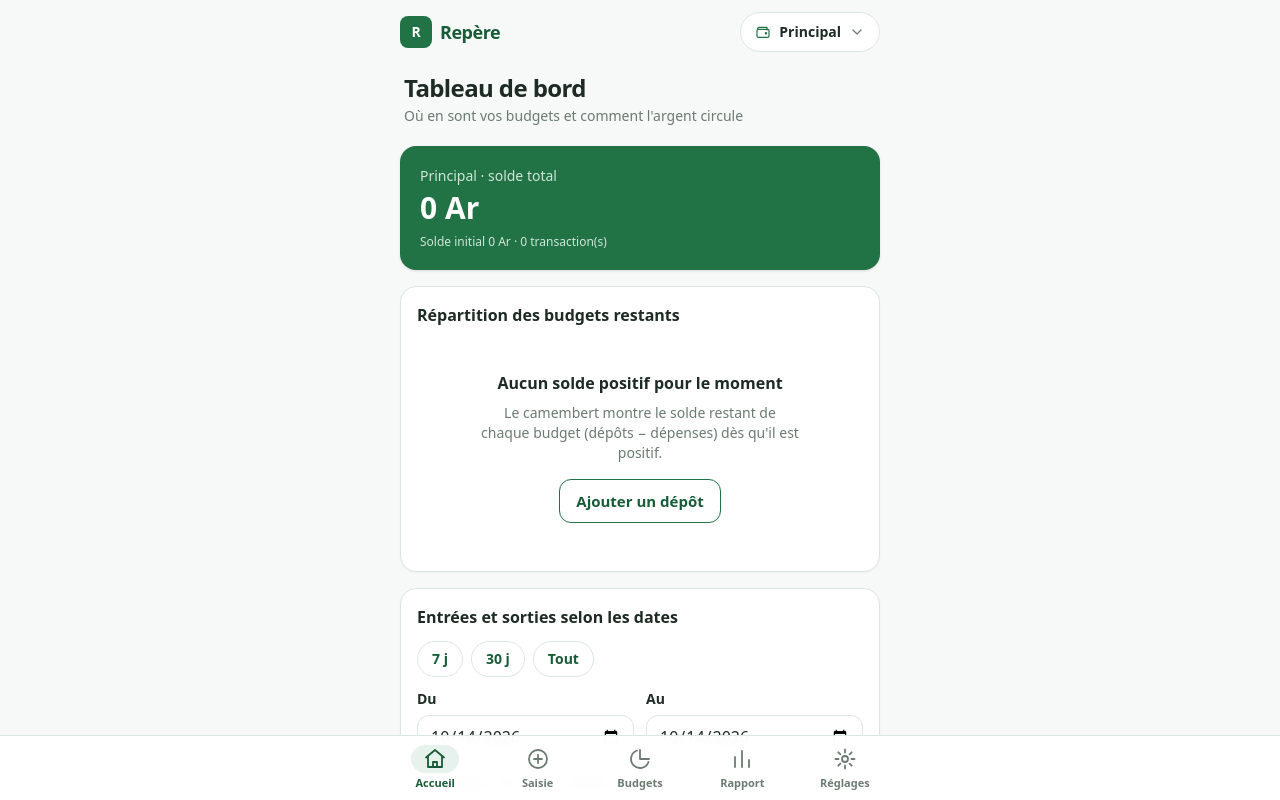
it: réglages : portefeuilles et données › un fichier invalide est refusé avec un message clair
Click the button "Réglages". click: (845, 768)
box: [794,736,896,799]
(page scrolled)
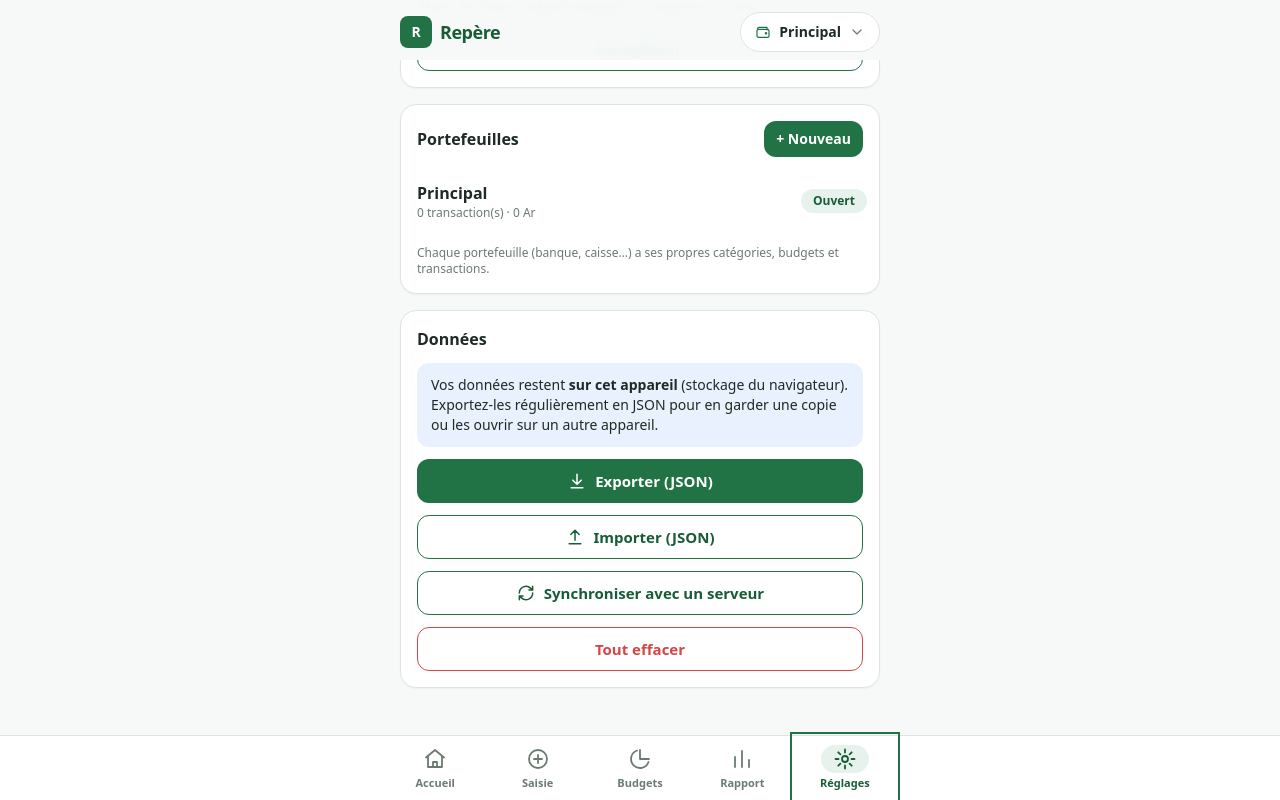
Click the button "Importer (JSON)". click: (640, 537)
box: [417,515,863,559]
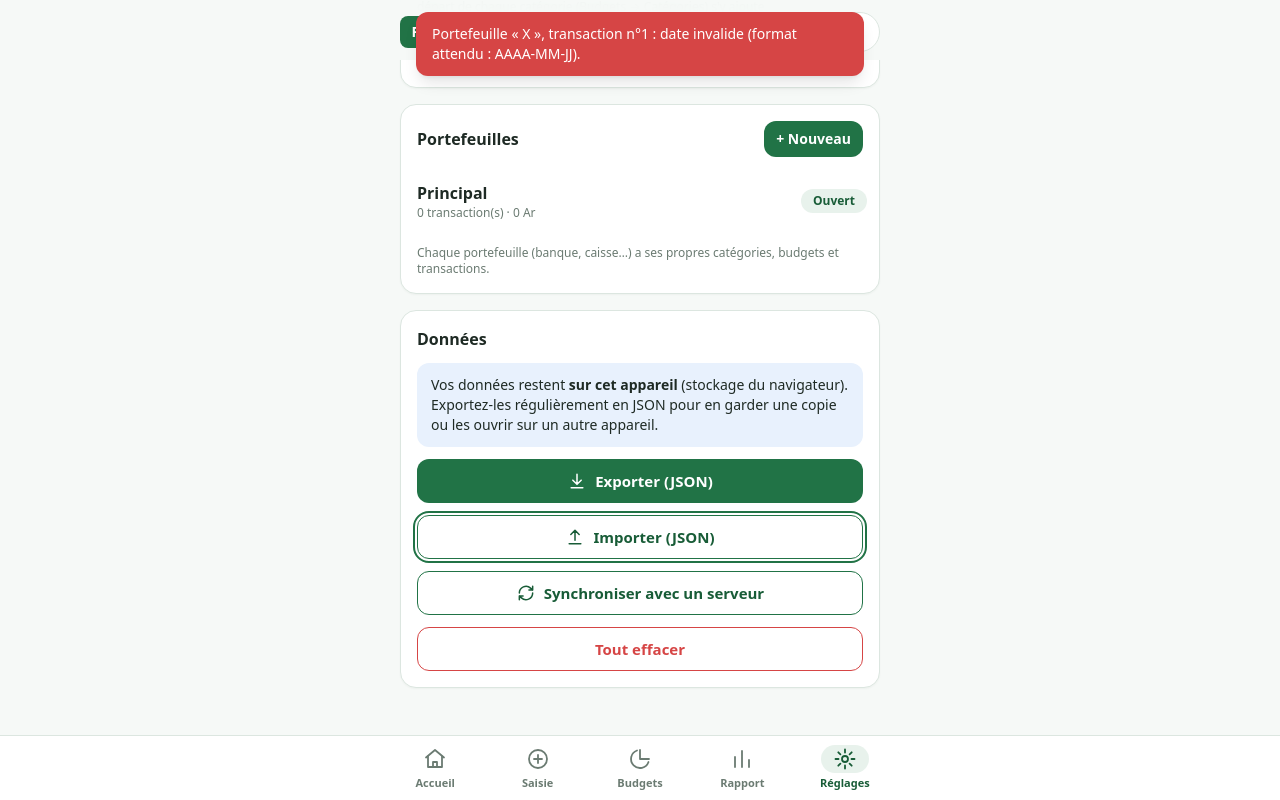
Expected: the text "transaction n°1 : date invalide" is shown, [432,24,797,63]
